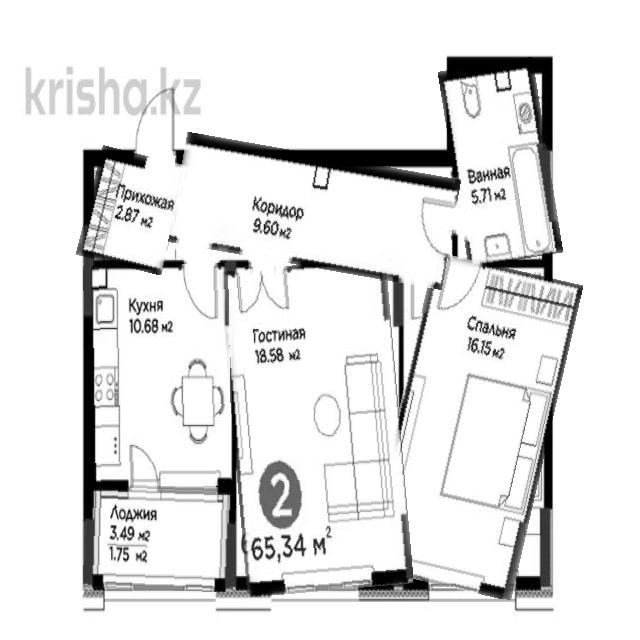balcony: (84, 484, 235, 591)
bathroom: (446, 60, 556, 264)
hallway: (172, 144, 458, 278), (82, 150, 182, 271)
kitchen: (84, 264, 231, 487)
living_room: (380, 258, 566, 595), (226, 261, 407, 594)
